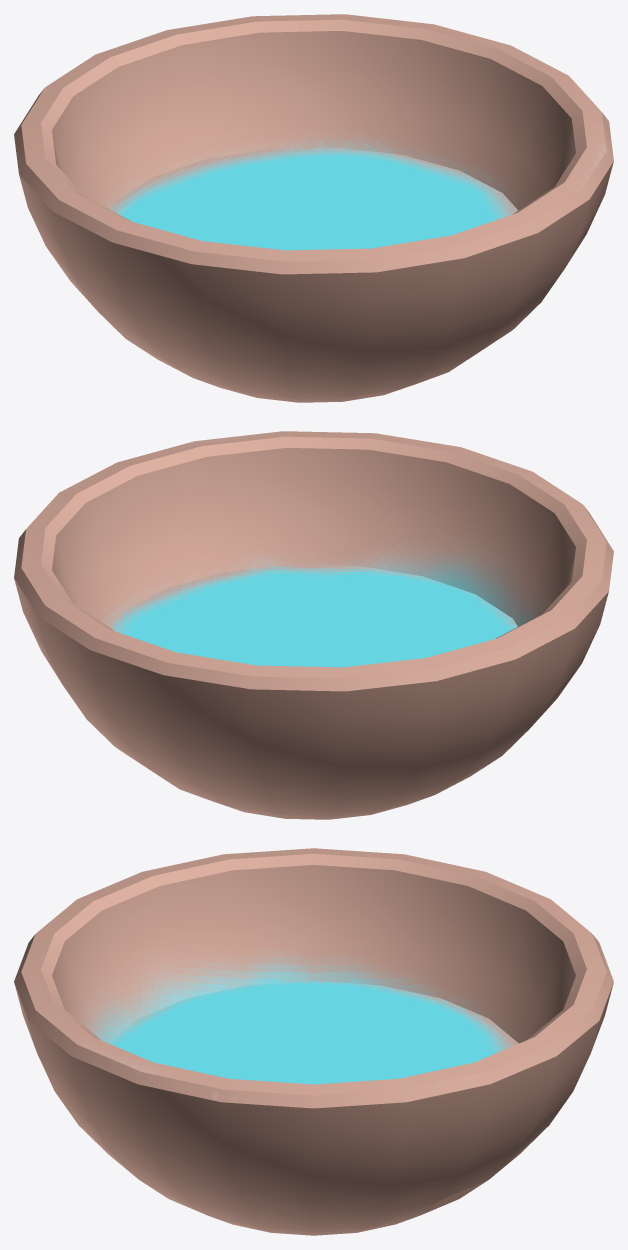
The model's file is Bowl.glb.
3 views of the same model, one above another, from view 1: azimuth 30°, elevation 25°; view 2: azimuth 150°, elevation 25°; view 3: azimuth 270°, elevation 25° (orthographic).
Parts seen in each view (by area): view 1: bowl.001; view 2: bowl.001; view 3: bowl.001.
Boxes of the visible parts, x1,y1,x2,y2 form: bowl.001: [14, 14, 613, 402]; bowl.001: [14, 431, 613, 819]; bowl.001: [14, 848, 613, 1235].
Bounding box in the file's own units: 1.78 × 0.7802 × 1.78.
Materials: 1 (1 with a texture image).
